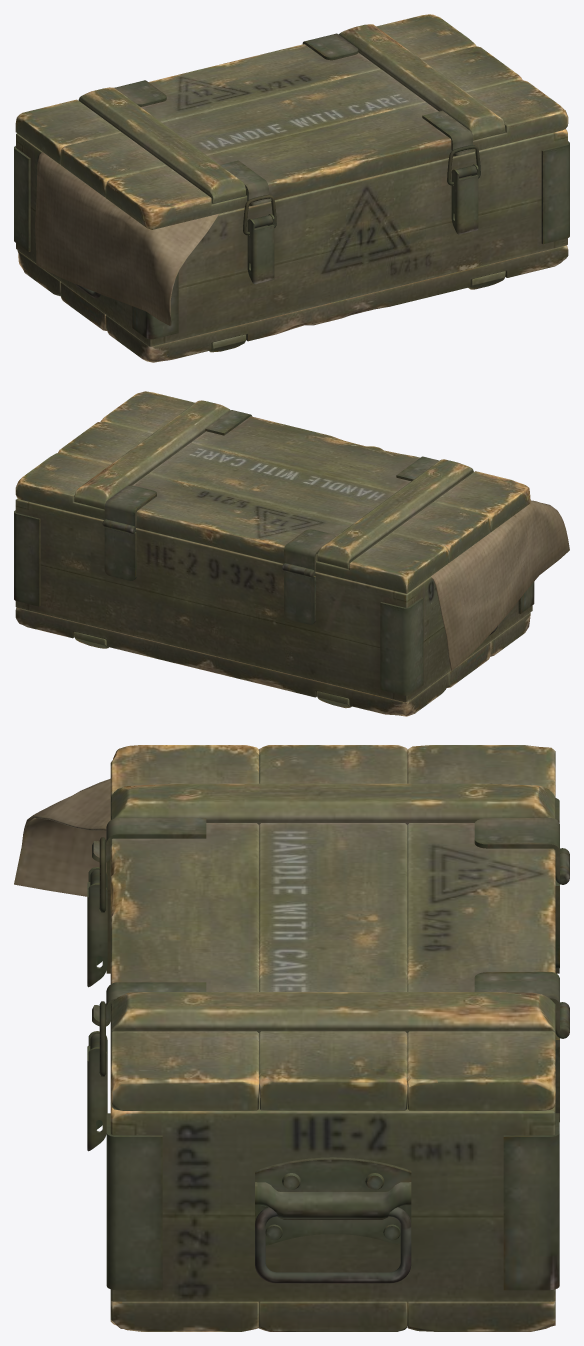
The model's file is old_military_crate.glb.
3 renders of one model, top to bottom at view 1: azimuth 30°, elevation 25°; view 2: azimuth 150°, elevation 25°; view 3: azimuth 270°, elevation 25°, orthographic. The views are drawn at different scales.
Parts seen in each view (by area): view 1: old_military_crate; view 2: old_military_crate; view 3: old_military_crate.
Part boxes in pixels (x1=…): old_military_crate: x1=14, y1=14, x2=569, y2=362; old_military_crate: x1=14, y1=391, x2=569, y2=716; old_military_crate: x1=14, y1=745, x2=569, y2=1331.
Bounding box in the file's own units: 0.8154 × 0.3009 × 0.5376.
Materials: 1 (1 with a texture image).
